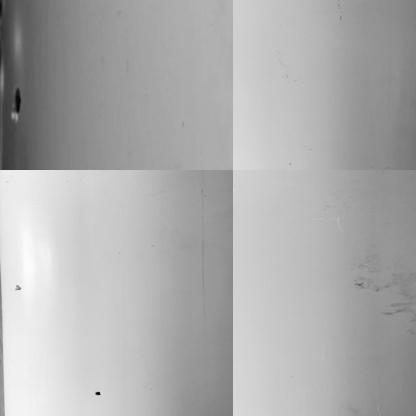kongdong: (8, 86, 25, 120), (91, 389, 102, 398)
